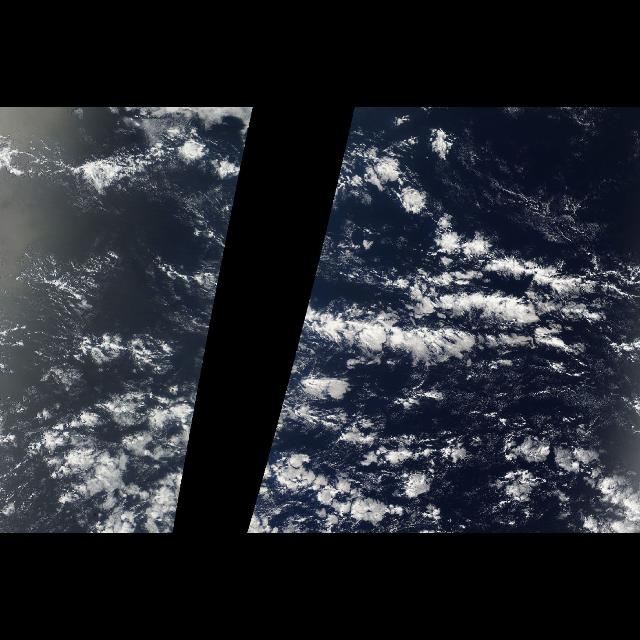Fish: (286, 220, 638, 388)
Flower: (249, 213, 631, 525), (28, 213, 232, 525)
